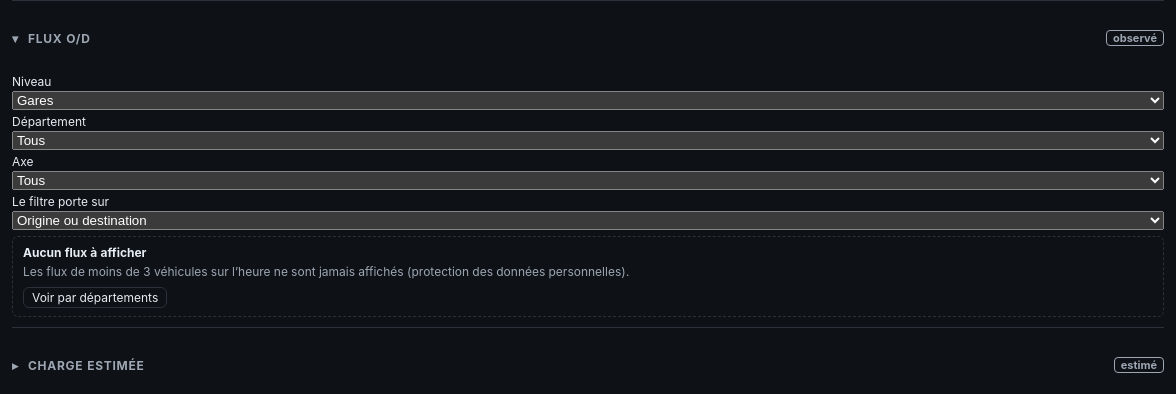
Test: sections › shows only the open section and switches on click
The image size is (1176, 394).
Click the button "▸ Charge estimée estimé" at [86, 365], box [12,353,1164,377]
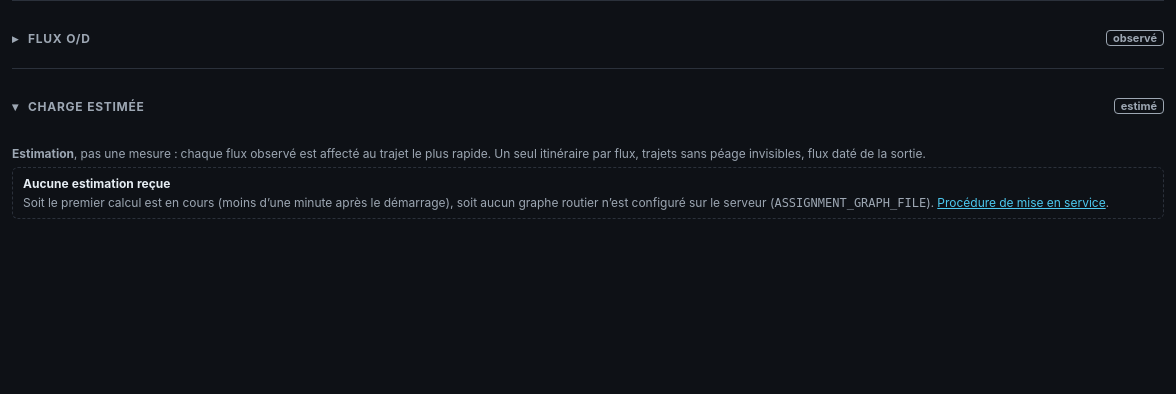
Check: the button "▸ Flux O/D observé" is collapsed, box [12,26,1164,50]
Check: the button "▾ Charge estimée estimé" is expanded, box [12,94,1164,118]
